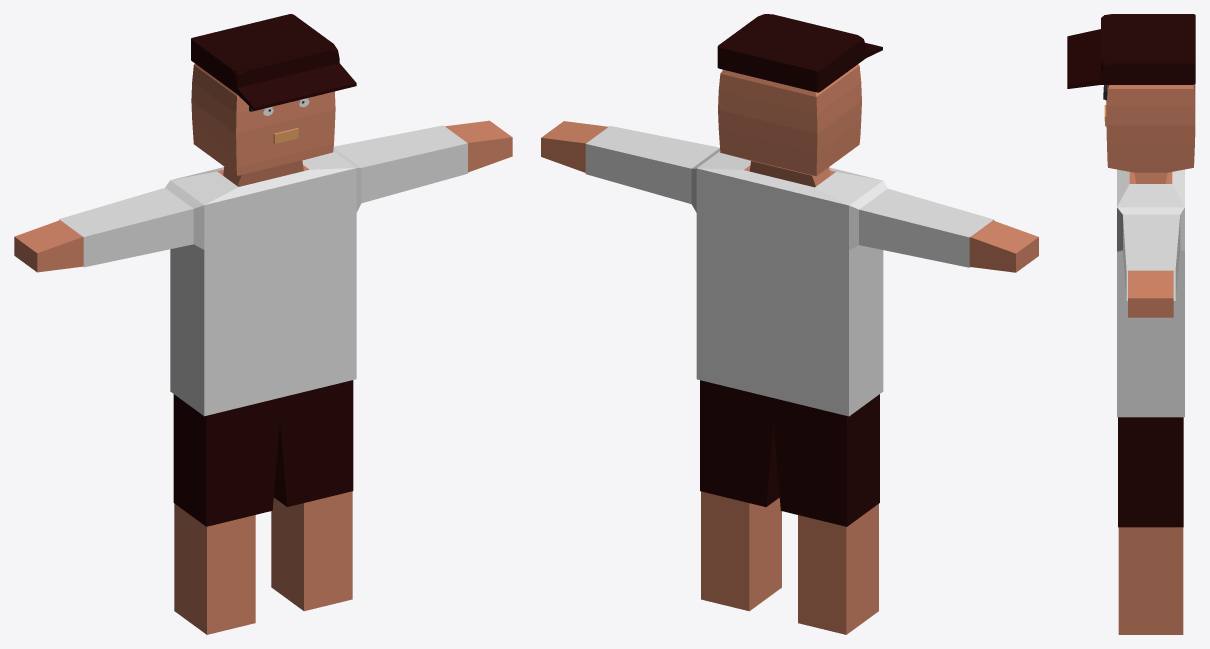
Rendered from character2.glb.
3 renders of one model, left to right at view 1: azimuth 30°, elevation 25°; view 2: azimuth 150°, elevation 25°; view 3: azimuth 270°, elevation 25°, orthographic.
Visible parts, largest first — view 1: Cube.001, Cube, Cube.002, Plane; view 2: Cube.001, Cube, Cube.002, Plane; view 3: Cube, Cube.001, Plane, Cube.002.
Part boxes in pixels (box(x1,y1,x2,y2)): Cube.001: box(59, 125, 467, 416); Cube: box(14, 63, 512, 634); Cube.002: box(173, 380, 353, 526); Plane: box(191, 14, 356, 110); Cube.001: box(585, 126, 994, 416); Cube: box(541, 64, 1038, 634); Cube.002: box(700, 380, 879, 526); Plane: box(717, 14, 882, 92); Cube: box(1103, 84, 1195, 634); Cube.001: box(1117, 169, 1184, 417); Plane: box(1067, 14, 1195, 88); Cube.002: box(1118, 417, 1183, 527).
Size of the model in its own units: 1.8 by 2.04 by 0.4222.
